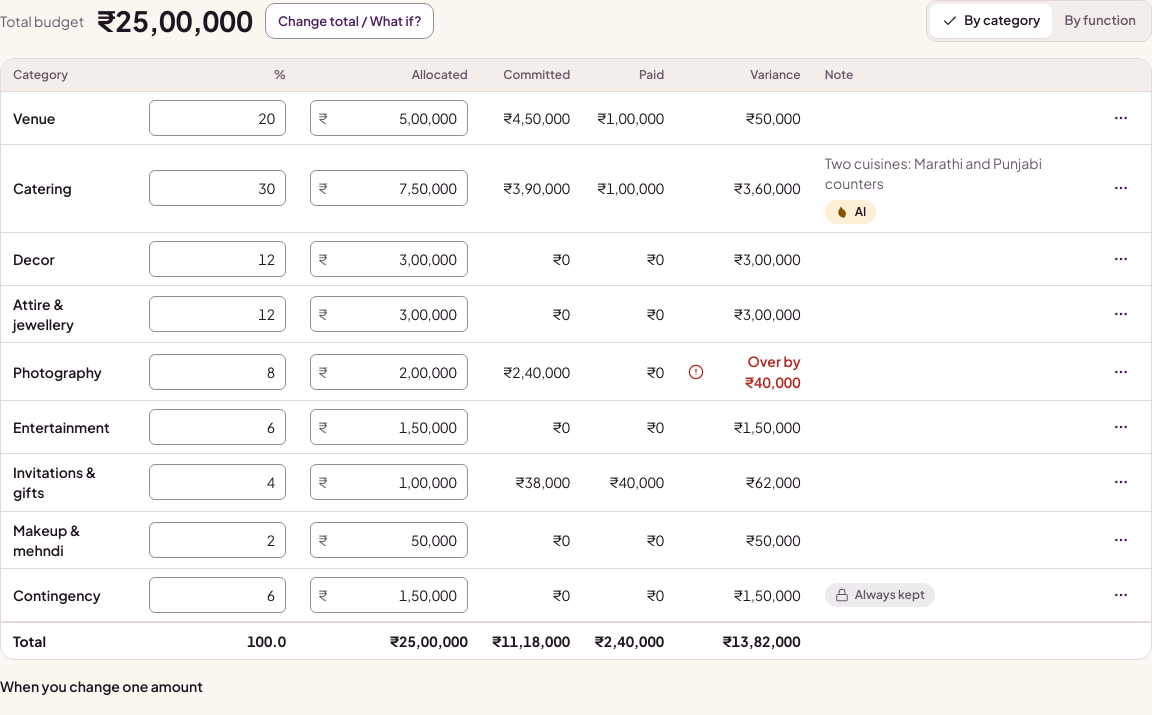
Budget tab (spec 5.4) › rebalances the other rows on an amount edit, tags them and announces it
Replace the text in the field named "Decor, allocated amount" with "190000" at coordinates (389, 259), box [310,241,468,277]
Then press Enter
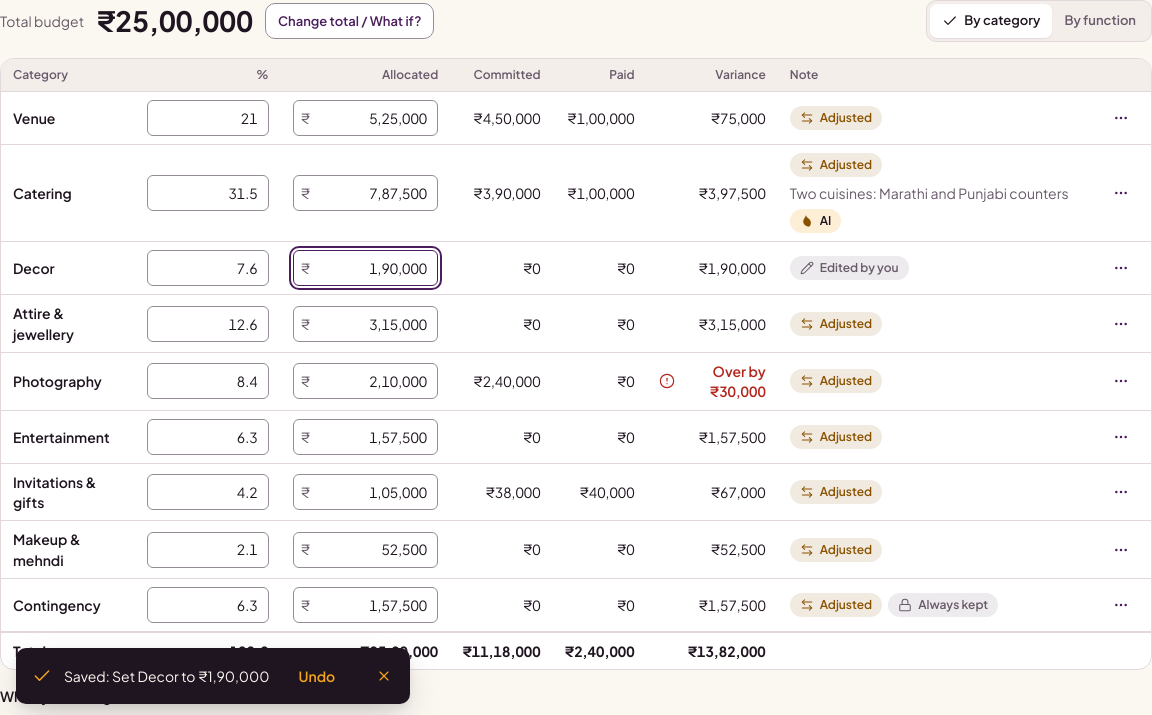
Result: the text "Adjusted" is shown 8 times
Result: the text "Edited by you" is shown at [790,256,909,280]
Result: the text "Over by ₹30,000" is shown at [659,361,766,402]
